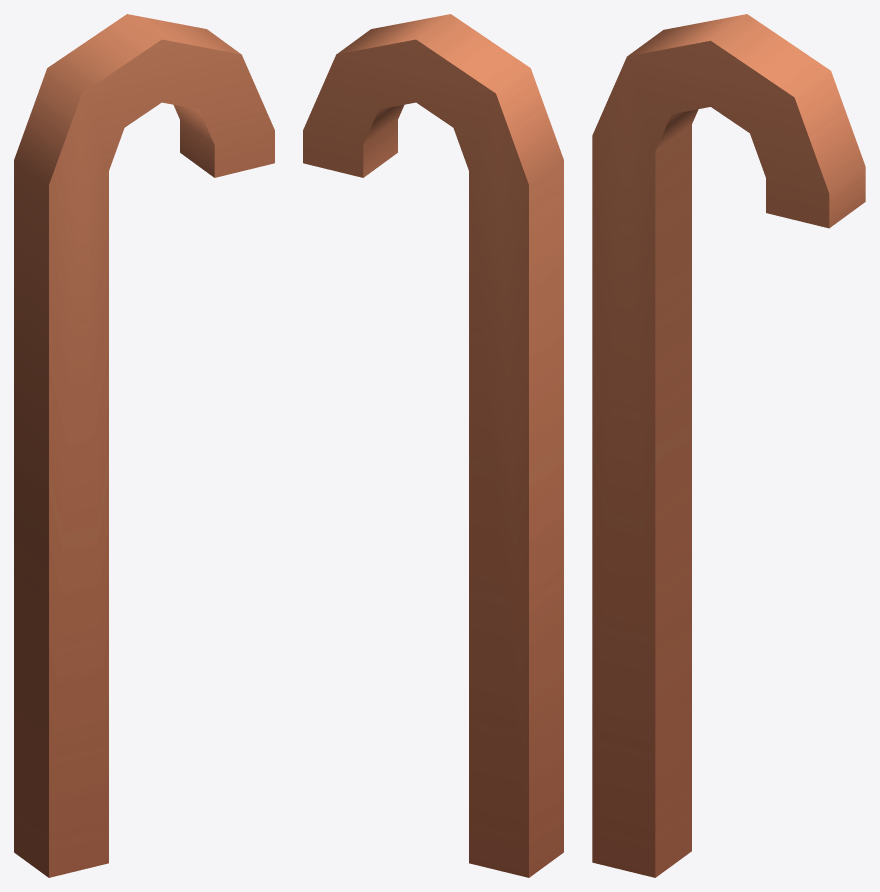
The model's file is varita_prueba.fbx.
3 views of the same model, side by side, from view 1: azimuth 30°, elevation 25°; view 2: azimuth 150°, elevation 25°; view 3: azimuth 330°, elevation 25° (orthographic). The views are drawn at different scales.
Parts seen in each view (by area): view 1: aid-cane; view 2: aid-cane; view 3: aid-cane.
Boxes of the visible parts, x1,y1,x2,y2 form: aid-cane: (14, 14, 274, 877); aid-cane: (303, 14, 563, 877); aid-cane: (592, 14, 865, 877).
Bounding box in the file's own units: 31.21 × 107 × 8.32.
